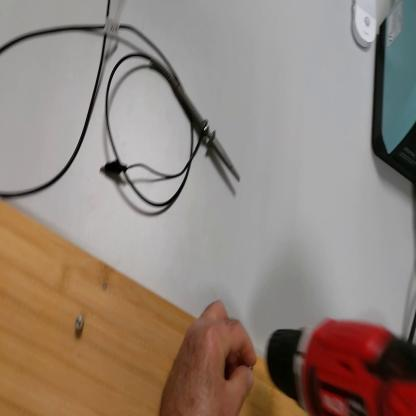electric screwdriver: (262, 316, 416, 416)
hand: (161, 305, 258, 413)
oscilloscope probe tip: (148, 58, 241, 181)
welder station: (369, 2, 416, 187)
working area: (2, 195, 302, 416)
